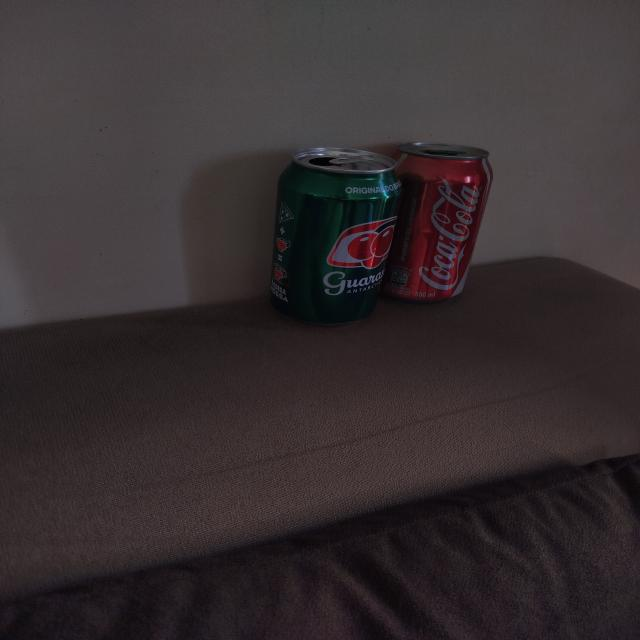Coca Cola: (380, 143, 495, 304)
Guarana: (268, 146, 402, 325)
